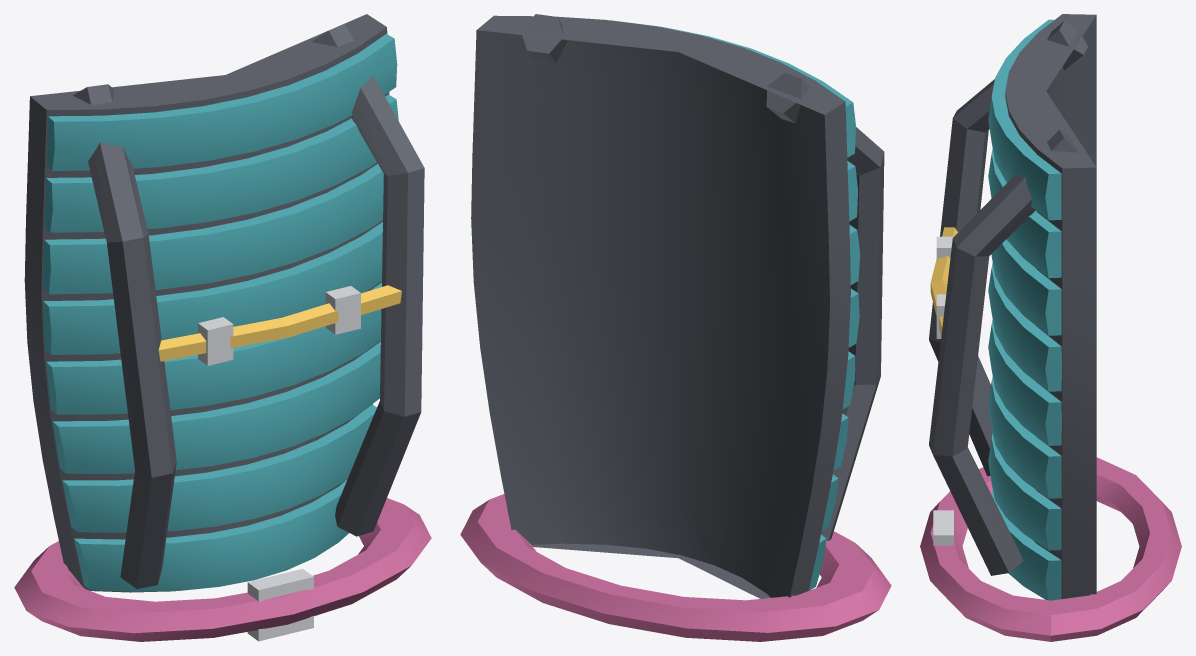
The model's file is snowboard-gear-and-freestyle-riders-back-protector-91762e9c__27156.glb.
The picture shows the model from 3 angles, left to right: view 1: azimuth 30°, elevation 25°; view 2: azimuth 150°, elevation 25°; view 3: azimuth 270°, elevation 25°; orthographic projection. The views are drawn at different scales.
Parts seen in each view (by area): view 1: back-protector; view 2: back-protector; view 3: back-protector.
Part boxes in pixels (left/top/right/bottom): back-protector: left=14, top=14, right=431, bottom=641; back-protector: left=460, top=14, right=891, bottom=641; back-protector: left=920, top=14, right=1181, bottom=641.
Bounding box in the file's own units: 0.37 × 0.4742 × 0.2294.
